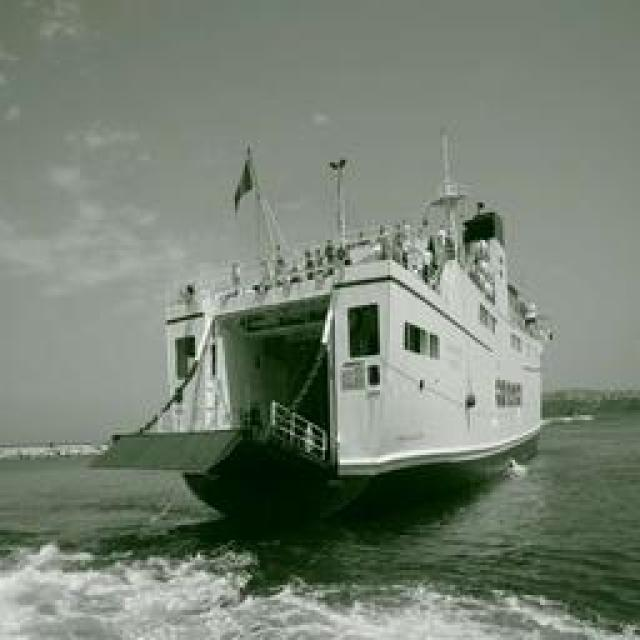Ship: (111, 180, 561, 513)
